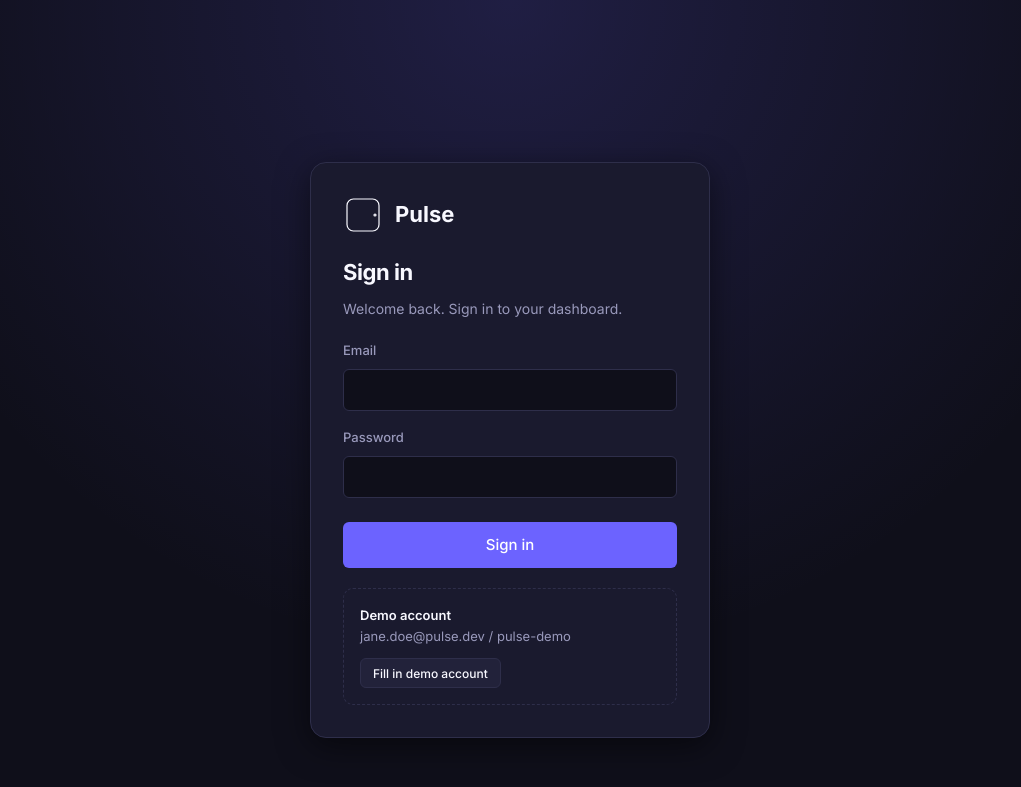
asks for both fields before sending anything
Click the button "Sign in" at [510, 545], box [343,522,677,568]
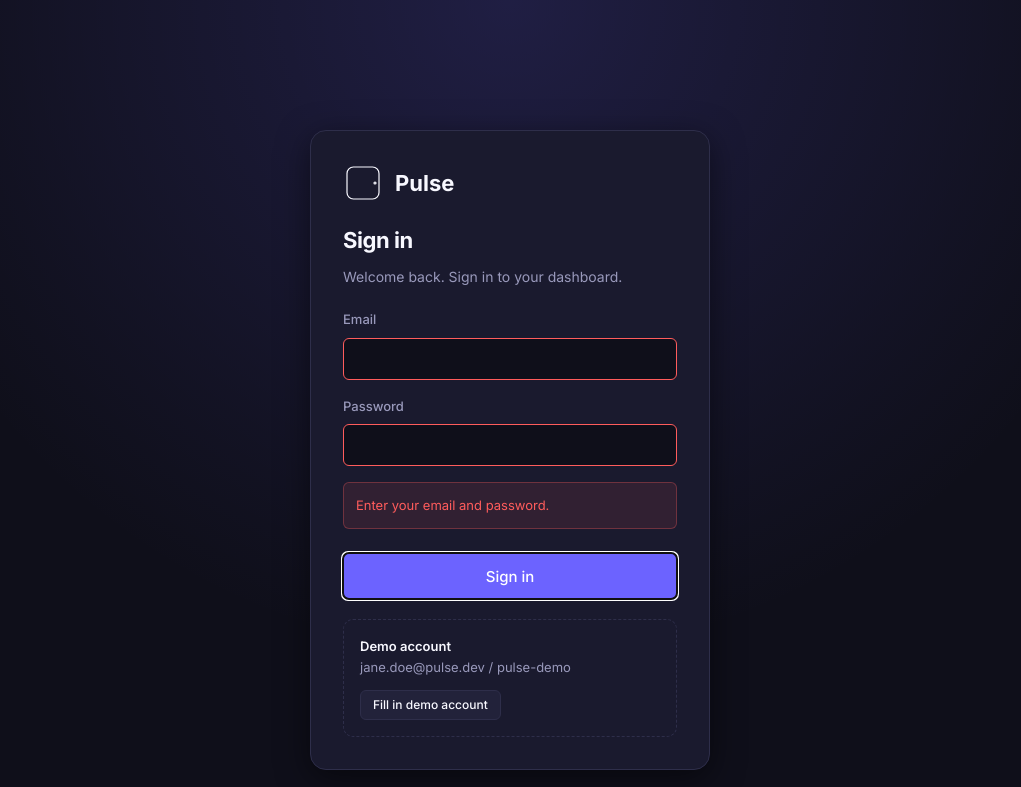
Expected: the message reads "Enter your email and password.", [356,497,549,513]
